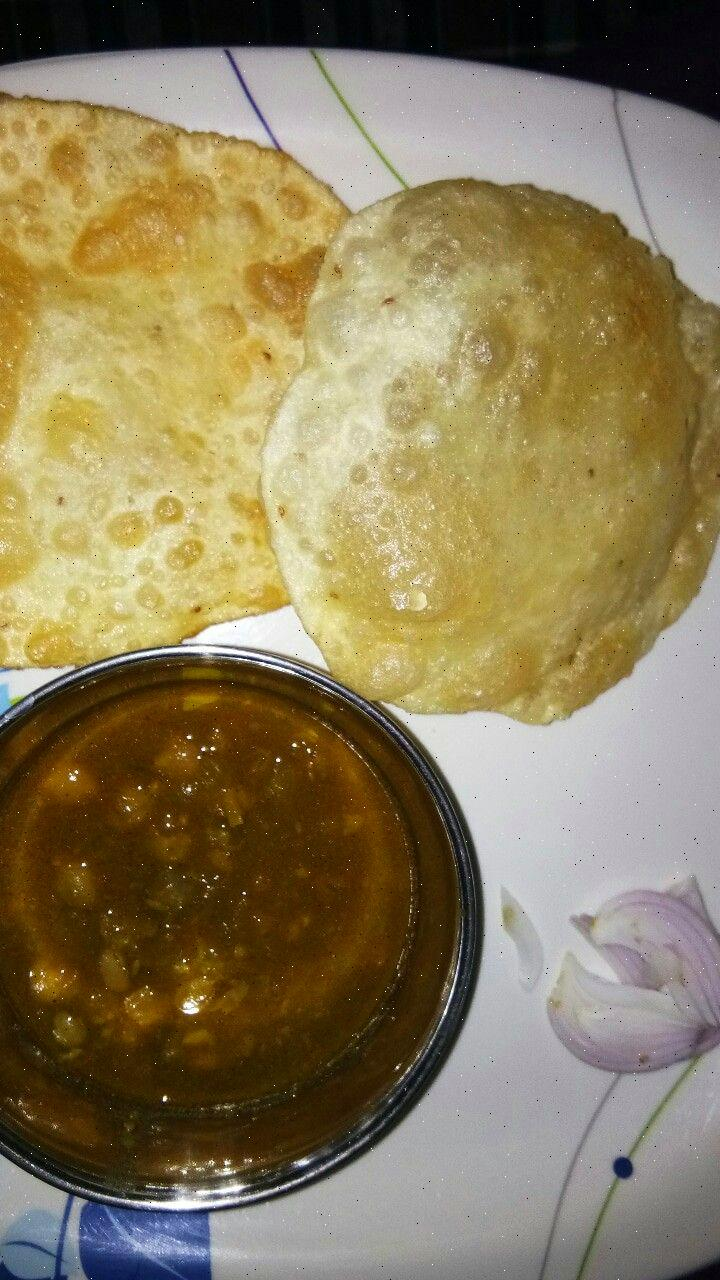chole: (43, 674, 417, 1139)
puri: (3, 114, 688, 642)
salad: (563, 877, 720, 1112)
